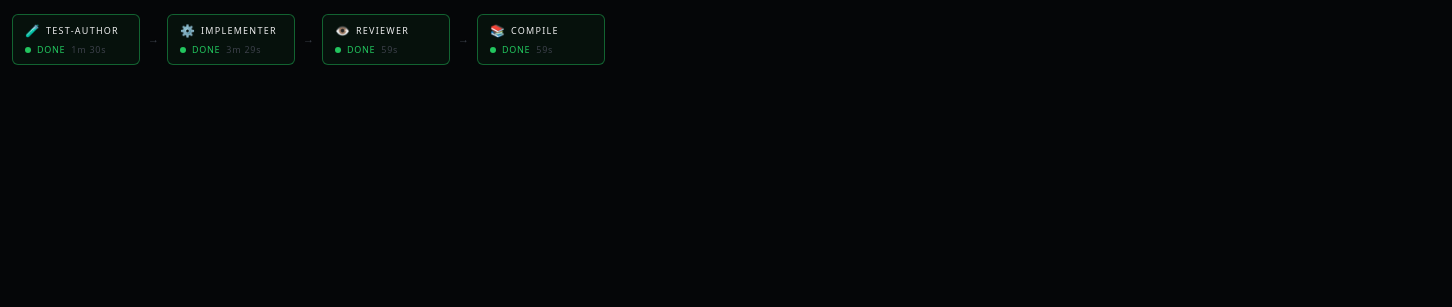
Test: StoryStagePipeline — audit tabs (B2) › reviewer panel renders per-AC verdict chips + needsHuman
The width and height of the screenshot is (1452, 307).
Click the text "Reviewer". click: (383, 31)
box: [356,24,409,38]
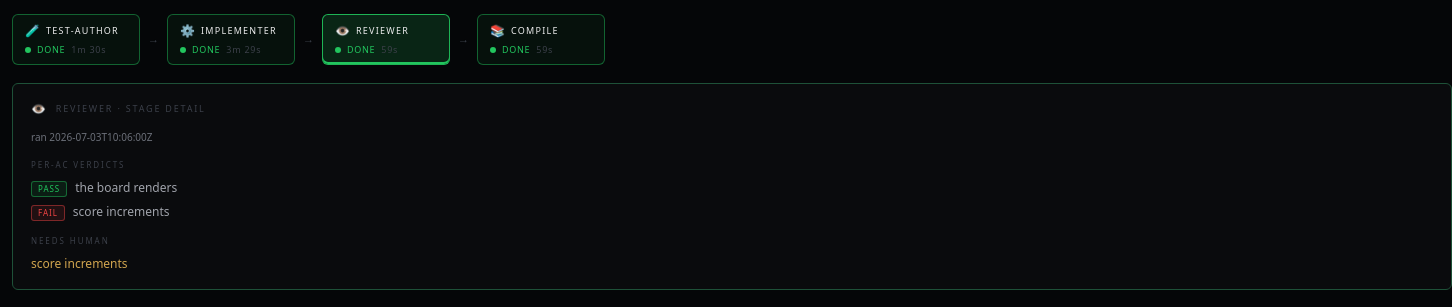
Check: the element with test id "stage-panel-reviewer" shows "pass", box [38,182,60,194]
